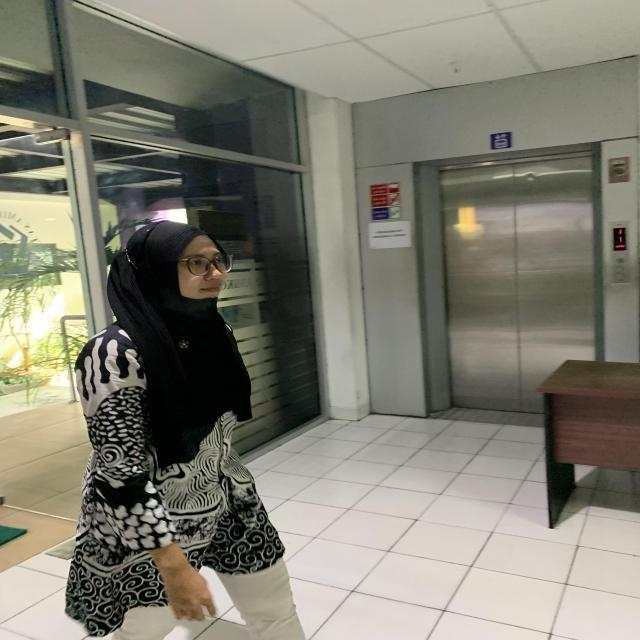hairnet: (131, 215, 236, 312)
